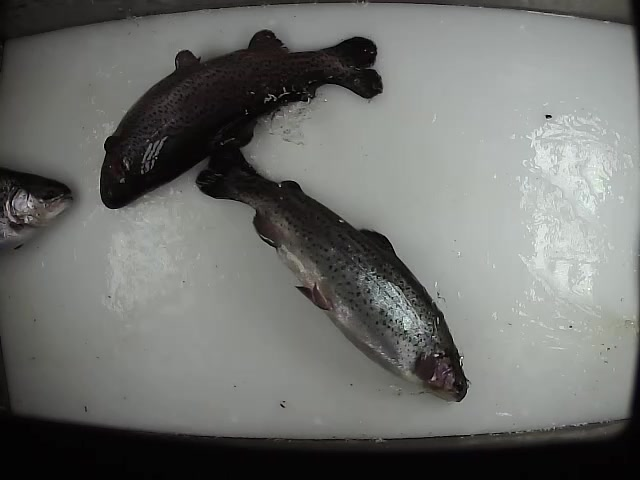fish: (194, 135, 471, 406), (98, 23, 385, 211), (1, 165, 74, 259)
